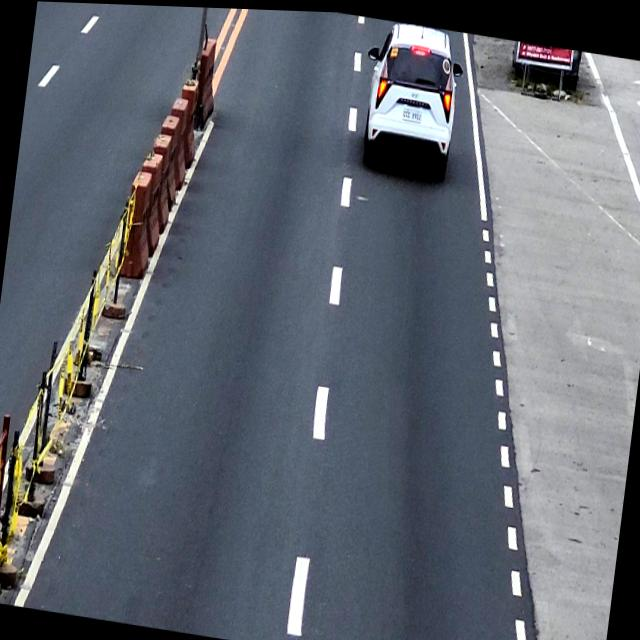Car: (353, 14, 468, 180)
License-Plate: (402, 105, 422, 120)
